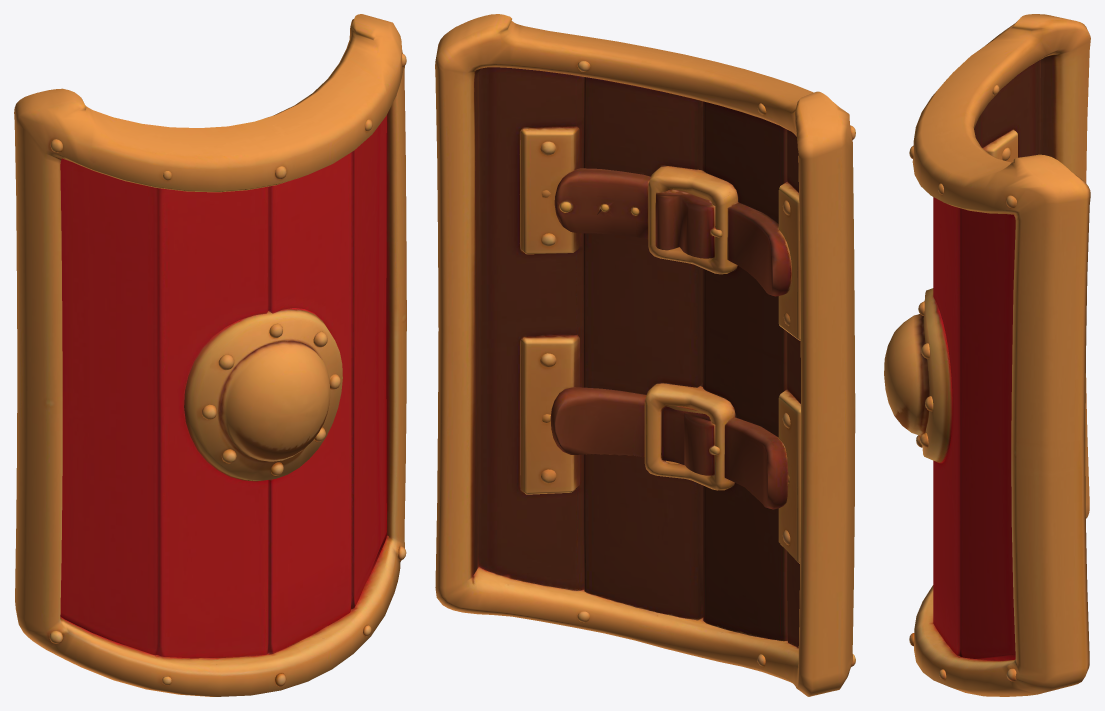
File: roman-shield.glb
3 views of the same model, side by side, from view 1: azimuth 30°, elevation 25°; view 2: azimuth 150°, elevation 25°; view 3: azimuth 270°, elevation 25° (orthographic). The views are drawn at different scales.
Parts seen in each view (by area): view 1: roman-shield-body; view 2: roman-shield-body; view 3: roman-shield-body.
Part boxes in pixels (x1,y1,x2,y2): roman-shield-body: (14,14,406,696); roman-shield-body: (435,14,855,696); roman-shield-body: (884,14,1090,696).
Size of the model in its own units: 0.6685 by 0.9995 by 0.3306.
Materials: 1 (1 with a texture image).
